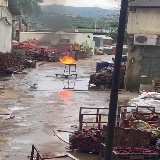fire: (59, 55, 76, 64)
